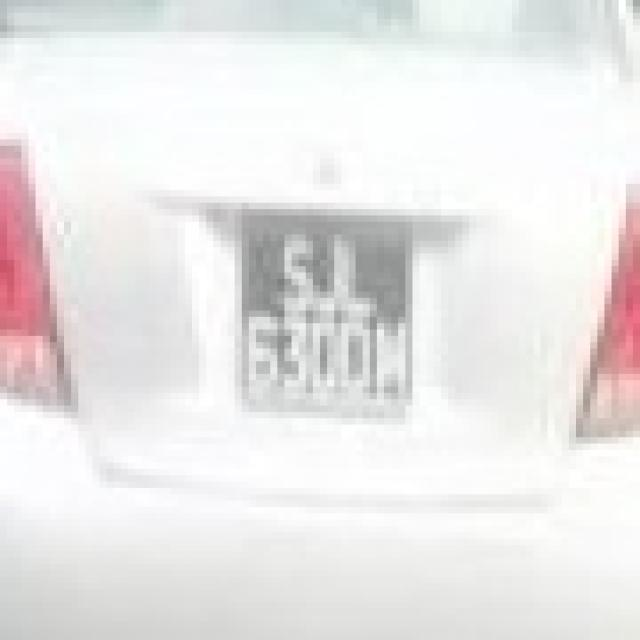0: (310, 312, 340, 400), (342, 318, 373, 398)
3: (280, 312, 309, 395)
6: (245, 312, 281, 395)
J: (308, 234, 342, 313)
L: (344, 237, 378, 314)
M: (374, 321, 411, 399)
S: (278, 234, 308, 313)
